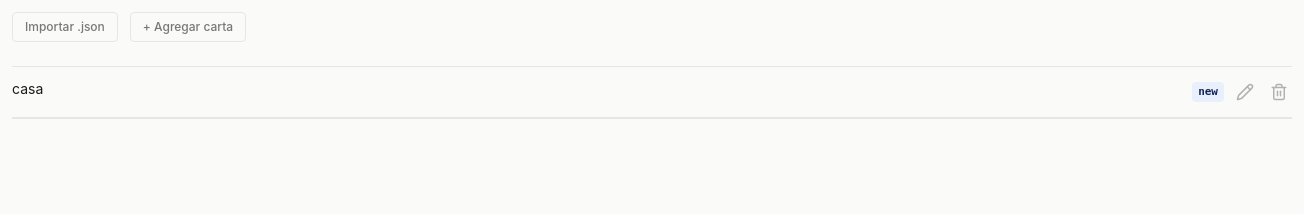
it: StudyDetail — card CRUD (phase 8.A.1) › shows edit panel with card front pre-loaded on edit click
Click the button with test id "btn-edit-card": coordinates (1245, 92) top-left (1232, 79), bottom-right (1258, 105)
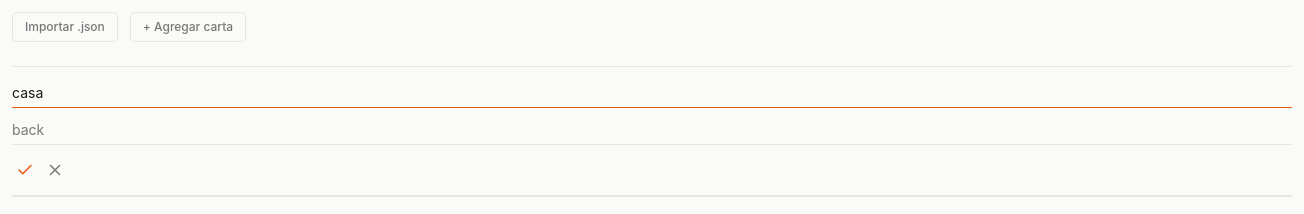
expect the element with test id "card-edit-panel" is shown: met, box top-left (12, 79), bottom-right (1292, 183)
expect the field with test id "input-edit-front" holds "casa": met, box top-left (12, 79), bottom-right (1292, 108)
